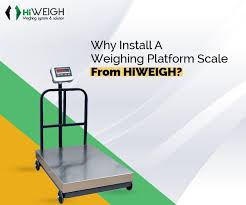Industrial Scale: (34, 65, 133, 205)
